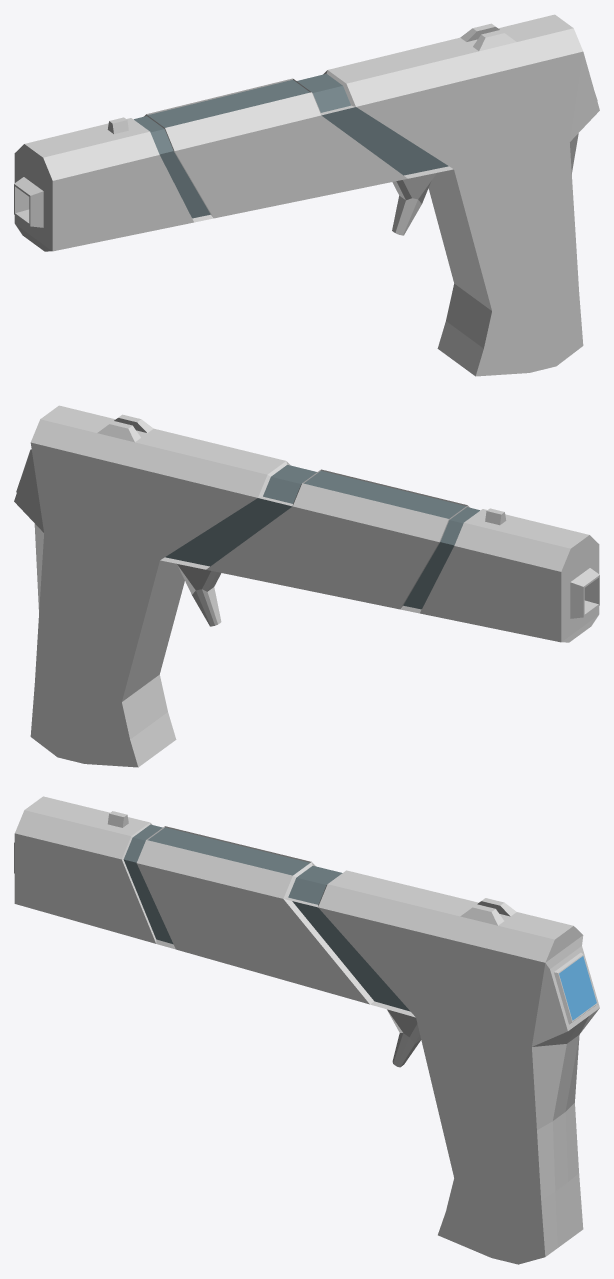
Rendered from Pistol.fbx.
The picture shows the model from 3 angles, top to bottom: view 1: azimuth 30°, elevation 25°; view 2: azimuth 150°, elevation 25°; view 3: azimuth 330°, elevation 25°; orthographic projection.
Visible parts, largest first — view 1: Cube; view 2: Cube; view 3: Cube.
Boxes of the visible parts, x1,y1,x2,y2 form: Cube: (14, 14, 599, 376); Cube: (14, 405, 599, 767); Cube: (14, 796, 599, 1264).
Bounding box in the file's own units: 495 × 281 × 57.86.
